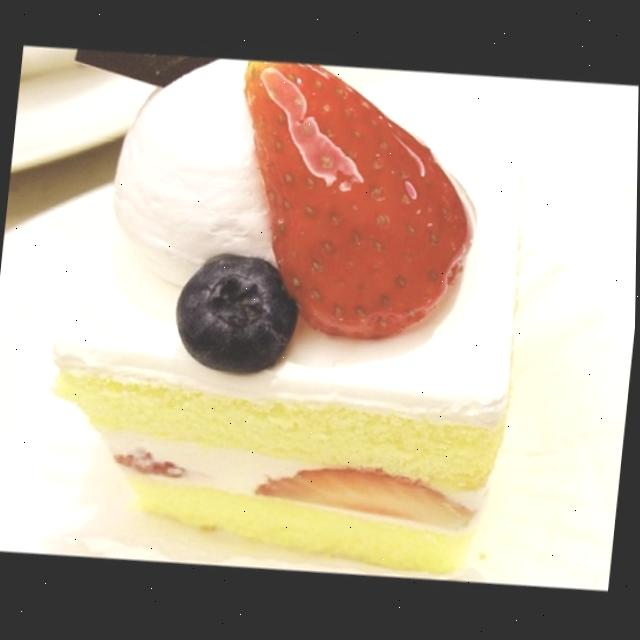蛋糕甜品: (0, 4, 629, 616)
